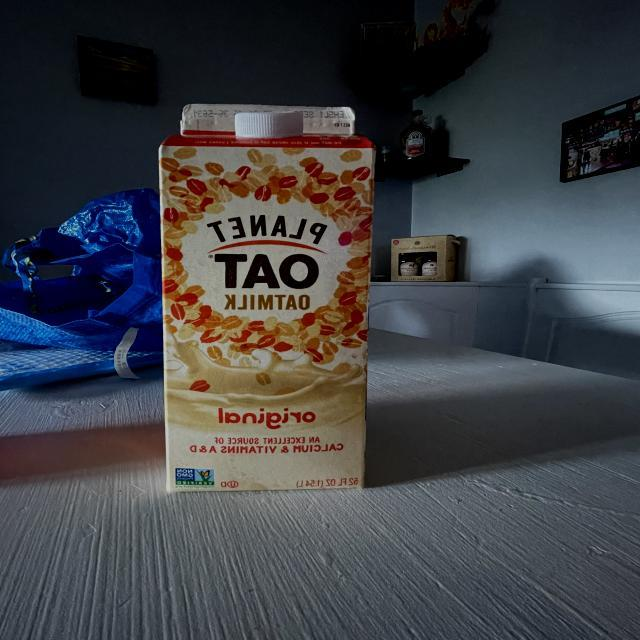Planet Oat Original: (150, 99, 387, 497)
